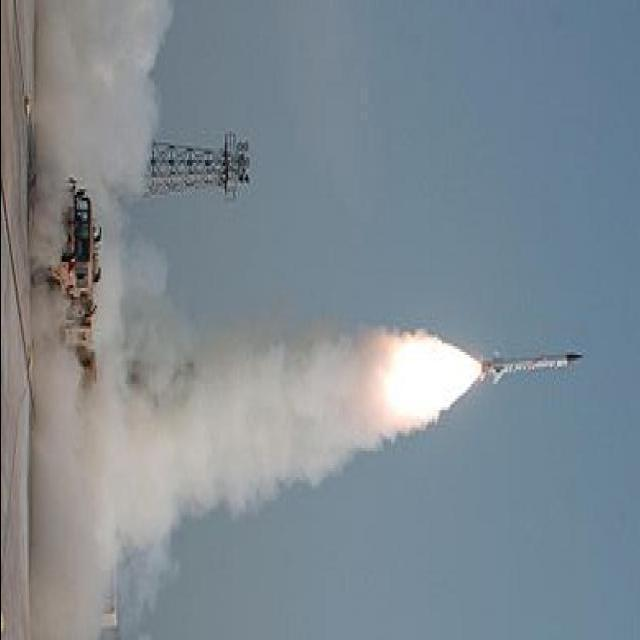missile: (479, 352, 587, 385)
